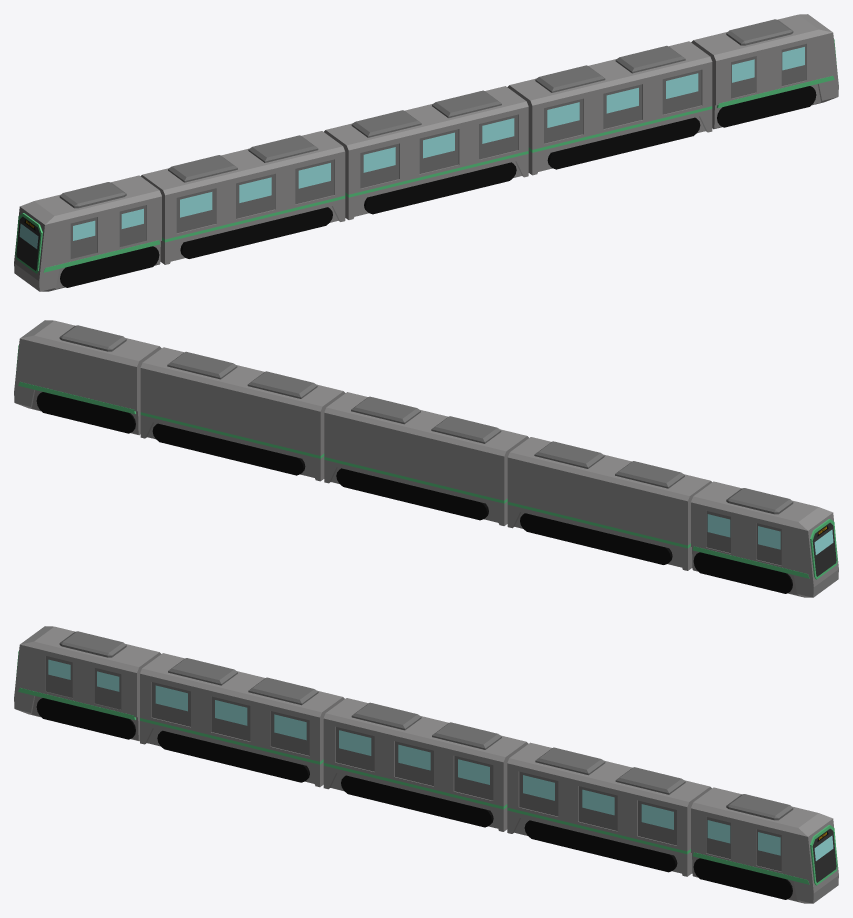
Rendered from Metro.fbx.
3 renders of one model, top to bottom at view 1: azimuth 30°, elevation 25°; view 2: azimuth 150°, elevation 25°; view 3: azimuth 330°, elevation 25°, orthographic.
Visible parts, largest first — view 1: L3, L1, L2, Left, Right; view 2: L3, L1, L2, Left, Right; view 3: L2, L3, L1, Right, Left.
Part boxes in pixels (x1,y1,x2,y2): L3: (507, 41, 712, 175); L1: (140, 131, 345, 264); L2: (324, 86, 528, 219); Left: (14, 175, 161, 291); Right: (691, 14, 838, 129); L3: (140, 347, 345, 481); L1: (507, 437, 712, 570); L2: (324, 392, 528, 525); Left: (691, 481, 838, 597); Right: (14, 320, 161, 435); L2: (323, 698, 528, 831); L3: (507, 742, 711, 876); L1: (140, 653, 344, 787); Right: (691, 787, 838, 903); Left: (14, 626, 161, 741).
Size of the model in its own units: 202 by 3672 by 342.
